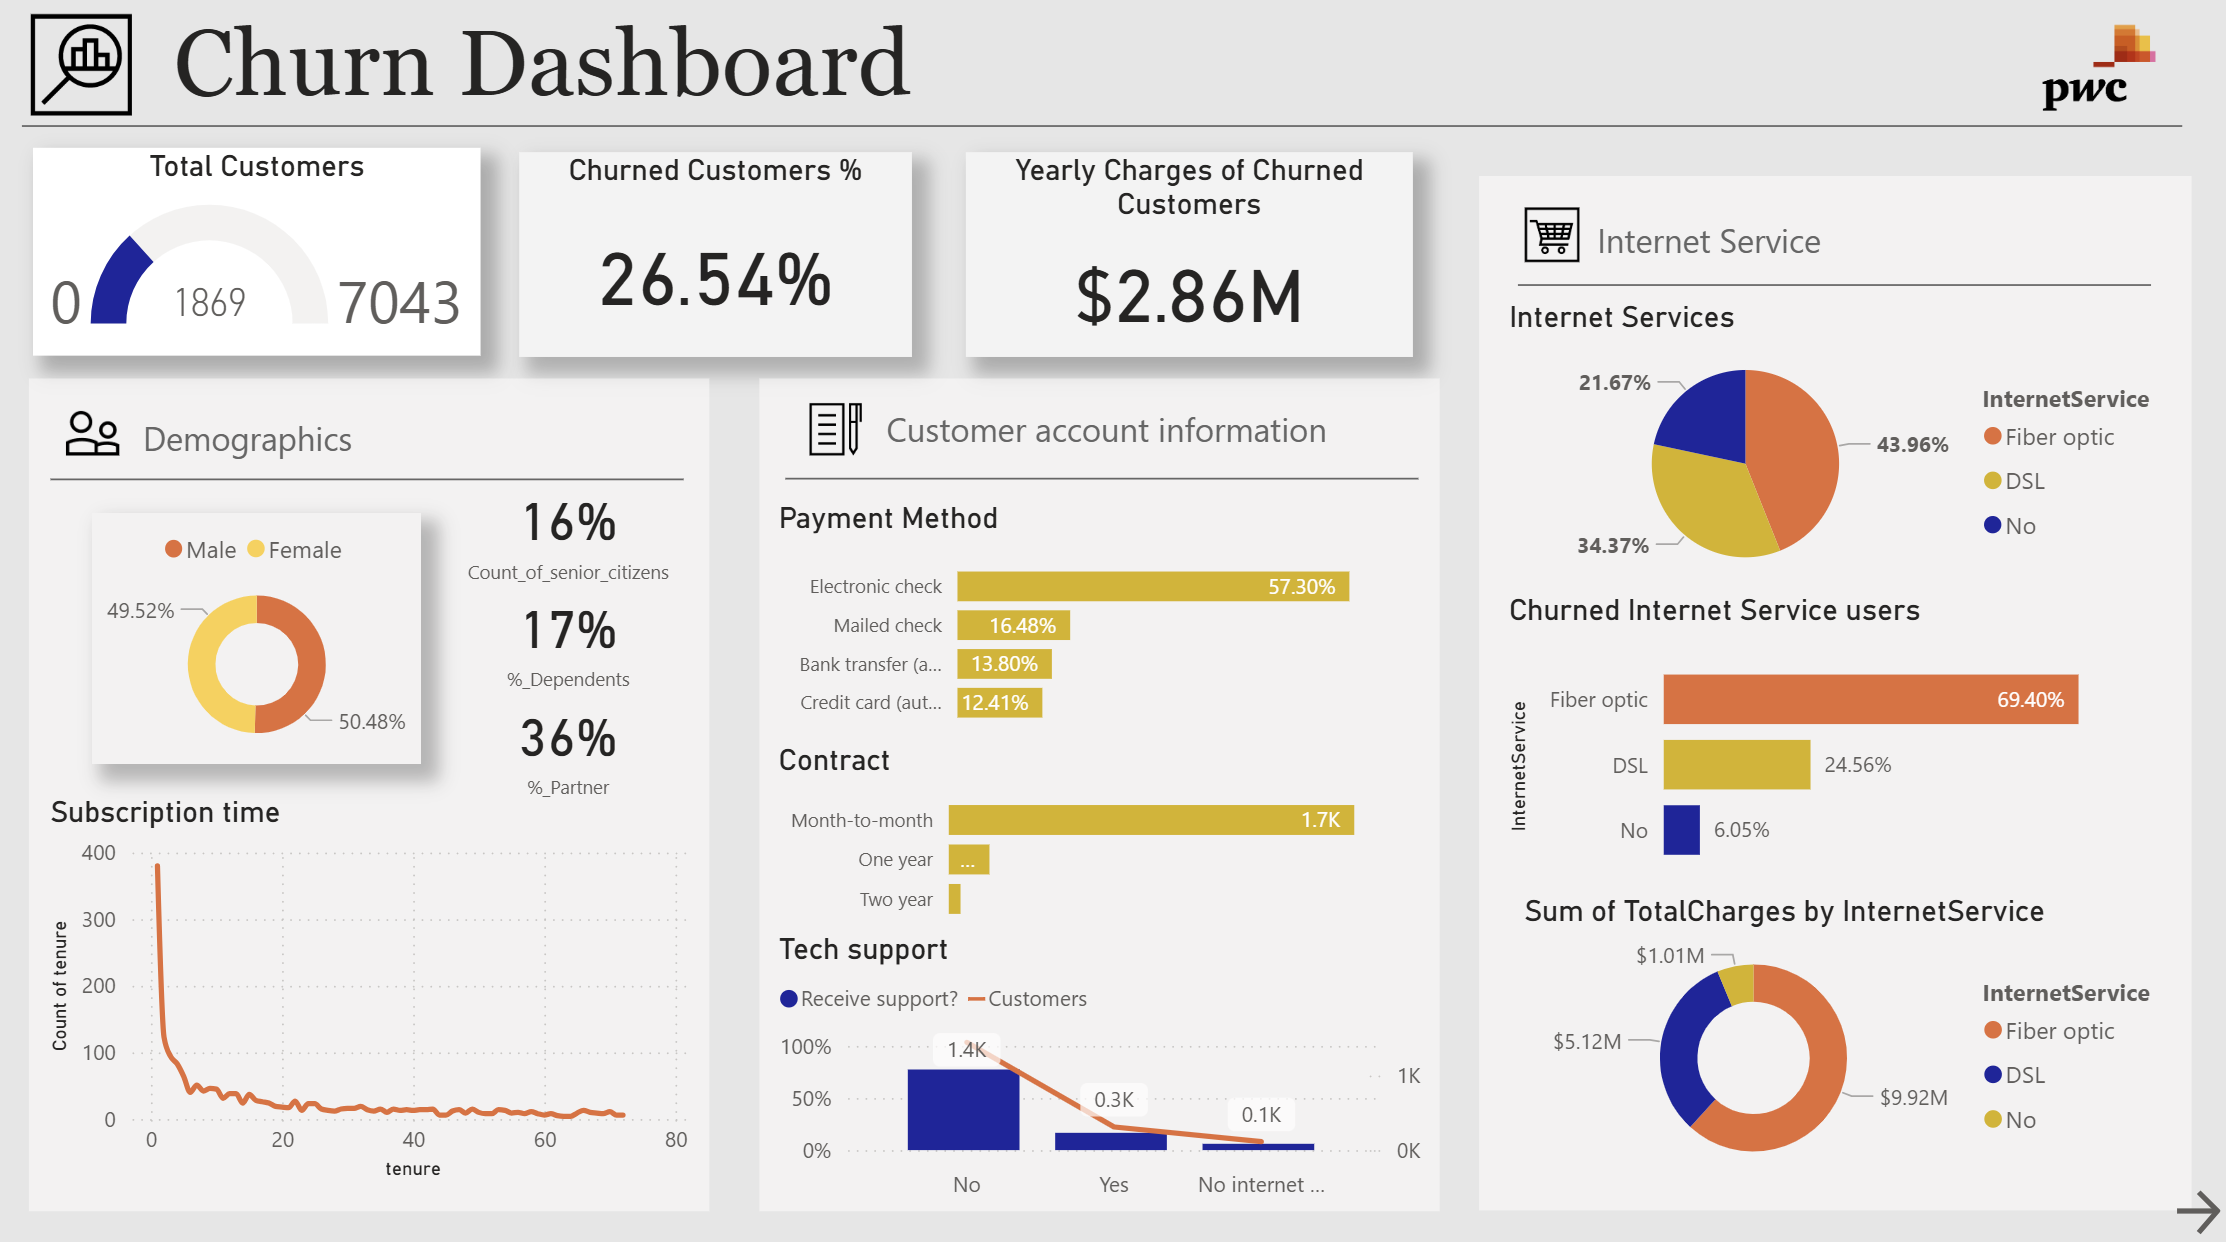

This screenshot's page, from the dashboard's own definition file:
{"tool":"powerbi","page":{"name":"Churn","canvas":[1280,720],"ordinal":1},"visuals":[{"type":"textbox","box":[87.7,4.9,1173.8,75],"z":0},{"type":"basicShape","box":[8.7,60.7,1253,40.5],"z":1000},{"type":"basicShape","box":[18.3,210,396.8,499.9],"z":2000},{"type":"card","fields":{"Values":["CountNonNull(churn.customerID)"]},"box":[18.5,99.4,170,102.3],"z":3000},{"type":"basicShape","box":[441.6,210,396.8,499.9],"z":4000},{"type":"basicShape","box":[864.9,210,396.8,499.9],"z":5000},{"type":"textbox","box":[508.5,228.6,314.9,35.6],"z":6000},{"type":"basicShape","box":[450.7,248.9,381.4,39.5],"z":7000},{"type":"image","box":[461.3,226.3,47.2,39.5],"z":8000},{"type":"textbox","box":[932.7,228.6,314.9,35.6],"z":9000},{"type":"basicShape","box":[877.4,248.9,381.4,39.5],"z":10000},{"type":"textbox","box":[88,228.6,314.9,35.6],"z":11000},{"type":"basicShape","box":[30.2,248.9,381.4,39.5],"z":12000},{"type":"image","box":[883.2,220.6,42.4,43.3],"z":13000},{"type":"image","box":[43.3,220.6,40.5,44.3],"z":14000},{"type":"donutChart","fields":{"Category":["churn.gender"],"Y":["CountNonNull(churn.gender)"]},"box":[43.8,286,201.3,156.6],"z":15000},{"type":"card","fields":{"Values":["churn.SeniorCitizen in %"]},"box":[271.4,268.7,128.1,100.2],"z":16000},{"type":"card","fields":{"Values":["churn.Partner in %"]},"box":[271.4,338.1,128.4,100.2],"z":17000},{"type":"card","fields":{"Values":["churn.Dependents in %"]},"box":[271.4,407.5,128.4,100.2],"z":18000},{"type":"clusteredBarChart","fields":{"Category":["churn.Contract"],"Y":["CountNonNull(churn.Contract)"]},"box":[461.3,577.9,370.8,131.9],"z":19000},{"type":"clusteredBarChart","fields":{"Y":["CountNonNull(churn.PaymentMethod)"],"Category":["churn.PaymentMethod"]},"box":[461.3,286,370.8,148.3],"z":20000},{"type":"textbox","box":[461.3,269.7,314.9,35.6],"z":21000},{"type":"textbox","box":[461.3,424.7,204.2,35.6],"z":22000},{"type":"donutChart","fields":{"Category":["churn.PaperlessBilling"],"Y":["CountNonNull(churn.PaperlessBilling)"]},"box":[461.3,438.2,204.2,139.7],"z":23000},{"type":"multiRowCard","fields":{"Values":["Avg(churn.MonthlyCharges)","Avg(churn.TotalCharges)"]},"box":[674.2,460.4,149.3,95.3],"z":24000},{"type":"textbox","box":[461.3,572.1,314.9,35.6],"z":25000},{"type":"pieChart","fields":{"Category":["churn.InternetService"],"Y":["Divide(CountNonNull(churn.InternetService), ScopedEval(CountNonNull(churn.InternetService), []))"]},"box":[1040.4,492.9,205.5,203.6],"z":26000},{"type":"card","fields":{"Values":["churn.Multiple Lines in %"]},"box":[1172.8,276.4,72.2,62.6],"z":27000},{"type":"card","fields":{"Values":["churn.Multiple lines no in %"]},"box":[1093.1,276.4,72.2,61.6],"z":28000},{"type":"textbox","box":[971.7,278.2,129.4,27.2],"z":29000},{"type":"textbox","box":[1092.2,311,73.2,35.6],"z":30000},{"type":"textbox","box":[1172.8,311,73.2,35.6],"z":31000},{"type":"textbox","box":[674.2,424.7,148.3,35.6],"z":32000},{"type":"multiRowCard","fields":{"Values":["churn.Phone Service in %","churn.Streaming TV in %","churn.Streaming Movies in %","churn.Device protection in %","churn.Online Bacup in %","churn.Tech Support in %","churn.Online Sec. in %"]},"box":[882.2,286,165.3,414.3],"z":33000},{"type":"basicShape","box":[990.2,300.5,97.3,28.2],"z":34000},{"type":"basicShape","box":[1063.1,296.7,37.9,32.1],"z":35000},{"type":"clusteredBarChart","fields":{"Y":["CountNonNull(churn.Churn)"],"Category":["churn.Loyalty"]},"box":[37,507.7,365.7,179],"z":36000},{"type":"textbox","box":[43.8,478.5,314.2,35],"z":37000},{"type":"image","box":[1048.2,356.5,190.9,121.8],"z":38000},{"type":"actionButton","box":[1246.1,680.1,31.6,39.5],"z":39000},{"type":"image","box":[16.6,4.9,67.2,68.2],"z":40000},{"type":"card","fields":{"Values":["Sum(churn.MonthlyCharges)"]},"box":[1083.9,99.4,170,102.3],"z":41000},{"type":"image","box":[634.9,0,216.9,202.2],"z":42000},{"type":"image","box":[221.1,556.2,178.3,139.3],"z":43000},{"type":"card","fields":{"Values":["Sum(churn.numTechTickets)"]},"box":[222.8,99.4,170,102.3],"z":44000},{"type":"card","fields":{"Values":["Sum(churn.numAdminTickets)"]},"box":[427.1,99.4,170,102.3],"z":45000},{"type":"card","fields":{"Values":["Sum(churn.TotalCharges)"]},"box":[879.7,99.4,170,102.3],"z":46000},{"type":"textbox","box":[897,72.3,355.9,30.5],"z":47000},{"type":"image","box":[341.9,151,115.9,108.1],"z":48000},{"type":"image","box":[1242,0,38,42.9],"z":49000},{"type":"image","box":[1129,0,151,94.5],"z":50000}]}

Visuals, with their boxes in screenshot pixels (x1, y1, x2, y2), scaled from the page's 1280x720 canvas onto the 2226x1242 screenshot:
textbox: region(153, 8, 2194, 138)
basicShape: region(15, 105, 2194, 175)
basicShape: region(32, 362, 722, 1225)
card - CountNonNull(churn.customerID): region(32, 171, 328, 348)
basicShape: region(768, 362, 1458, 1225)
basicShape: region(1504, 362, 2194, 1225)
textbox: region(884, 394, 1432, 456)
basicShape: region(784, 429, 1447, 497)
image: region(802, 390, 884, 459)
textbox: region(1622, 394, 2170, 456)
basicShape: region(1526, 429, 2189, 497)
textbox: region(153, 394, 701, 456)
basicShape: region(53, 429, 716, 497)
image: region(1536, 381, 1610, 455)
image: region(75, 381, 146, 457)
donutChart - churn.gender x CountNonNull(churn.gender): region(76, 493, 426, 763)
card - churn.SeniorCitizen in %: region(472, 464, 695, 636)
card - churn.Partner in %: region(472, 583, 695, 756)
card - churn.Dependents in %: region(472, 703, 695, 876)
clusteredBarChart - churn.Contract x CountNonNull(churn.Contract): region(802, 997, 1447, 1224)
clusteredBarChart - CountNonNull(churn.PaymentMethod) x churn.PaymentMethod: region(802, 493, 1447, 749)
textbox: region(802, 465, 1350, 527)
textbox: region(802, 733, 1157, 794)
donutChart - churn.PaperlessBilling x CountNonNull(churn.PaperlessBilling): region(802, 756, 1157, 997)
multiRowCard - Avg(churn.MonthlyCharges) x Avg(churn.TotalCharges): region(1172, 794, 1432, 959)
textbox: region(802, 987, 1350, 1048)
pieChart - churn.InternetService x Divide(CountNonNull(churn.InternetService), ScopedEval(CountNonNull(churn.InternetService), [])): region(1809, 850, 2167, 1201)
card - churn.Multiple Lines in %: region(2040, 477, 2165, 585)
card - churn.Multiple lines no in %: region(1901, 477, 2027, 583)
textbox: region(1690, 480, 1915, 527)
textbox: region(1899, 536, 2027, 598)
textbox: region(2040, 536, 2167, 598)
textbox: region(1172, 733, 1430, 794)
multiRowCard - churn.Phone Service in % x churn.Streaming TV in %: region(1534, 493, 1822, 1208)
basicShape: region(1722, 518, 1891, 567)
basicShape: region(1849, 512, 1915, 567)
clusteredBarChart - CountNonNull(churn.Churn) x churn.Loyalty: region(64, 876, 700, 1185)
textbox: region(76, 825, 623, 886)
image: region(1823, 615, 2155, 825)
actionButton: region(2167, 1173, 2222, 1241)
image: region(29, 8, 146, 126)
card - Sum(churn.MonthlyCharges): region(1885, 171, 2181, 348)
image: region(1104, 0, 1481, 349)
image: region(385, 959, 695, 1200)
card - Sum(churn.numTechTickets): region(387, 171, 683, 348)
card - Sum(churn.numAdminTickets): region(743, 171, 1038, 348)
card - Sum(churn.TotalCharges): region(1530, 171, 1825, 348)
textbox: region(1560, 125, 2179, 177)
image: region(595, 260, 796, 447)
image: region(2160, 0, 2225, 74)
image: region(1963, 0, 2225, 163)
